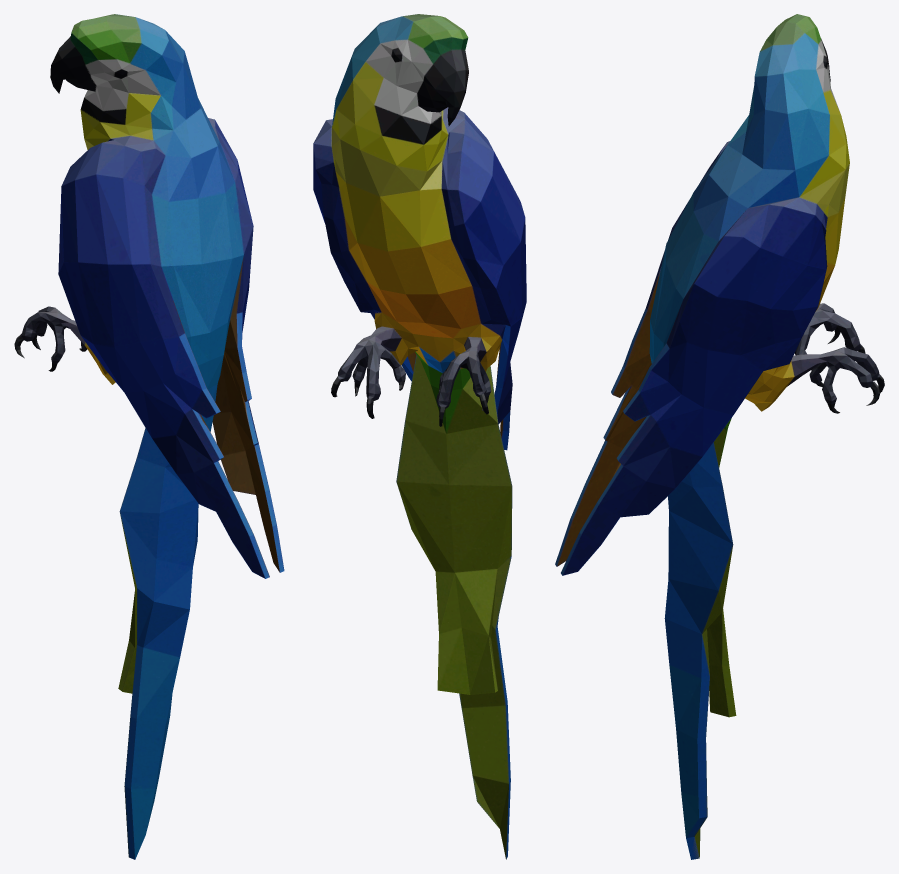
File: parrot_transformed.fbx
The picture shows the model from 3 angles, left to right: view 1: azimuth 30°, elevation 25°; view 2: azimuth 150°, elevation 25°; view 3: azimuth 270°, elevation 25°; orthographic projection. The views are drawn at different scales.
Visible parts, largest first — view 1: node_id30; view 2: node_id30; view 3: node_id30.
Boxes of the visible parts, x1=… form: node_id30: x1=14, y1=14, x2=284, y2=859; node_id30: x1=313, y1=14, x2=526, y2=859; node_id30: x1=555, y1=14, x2=884, y2=859.
Size of the model in its own units: 37.12 by 154 by 54.15.
